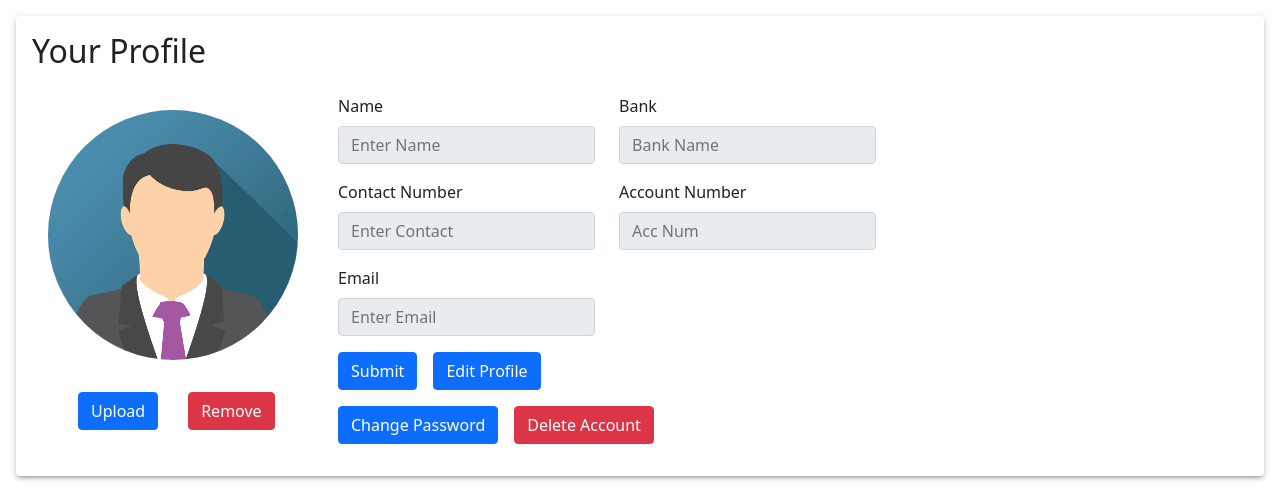
Test: Profile Page › input fields enabled for edit when button is clicked
The width and height of the screenshot is (1280, 498).
Click the button "Edit Profile": (487,371) left=433, top=352, right=541, bottom=390
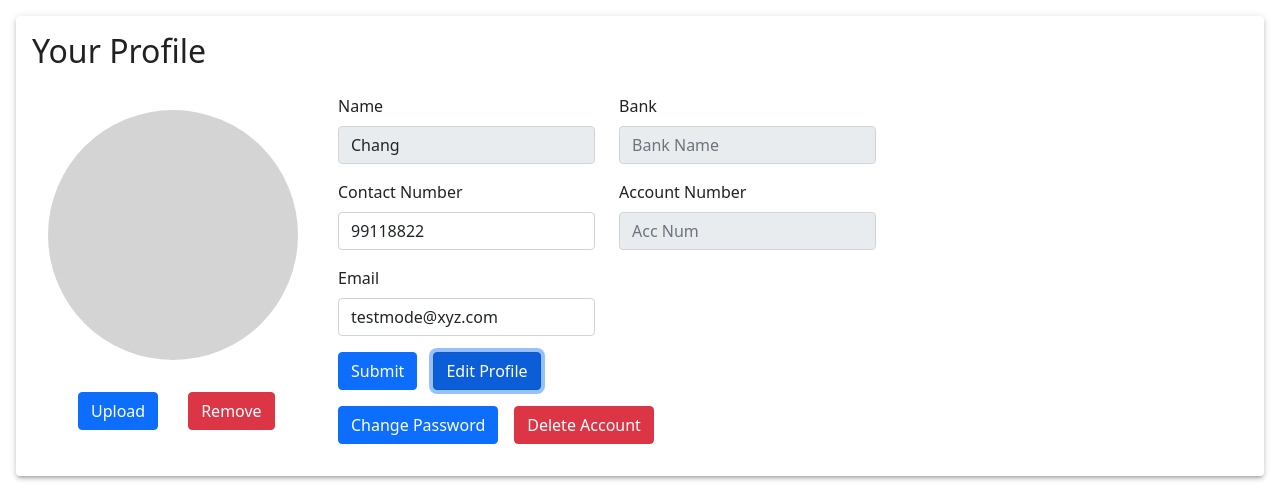
Expected: the field with placeholder "Enter Name" is disabled, left=338, top=126, right=595, bottom=164
Expected: the field with placeholder "Enter Contact" is enabled, left=338, top=212, right=595, bottom=250
Expected: the field with placeholder "Enter Email" is enabled, left=338, top=298, right=595, bottom=336
